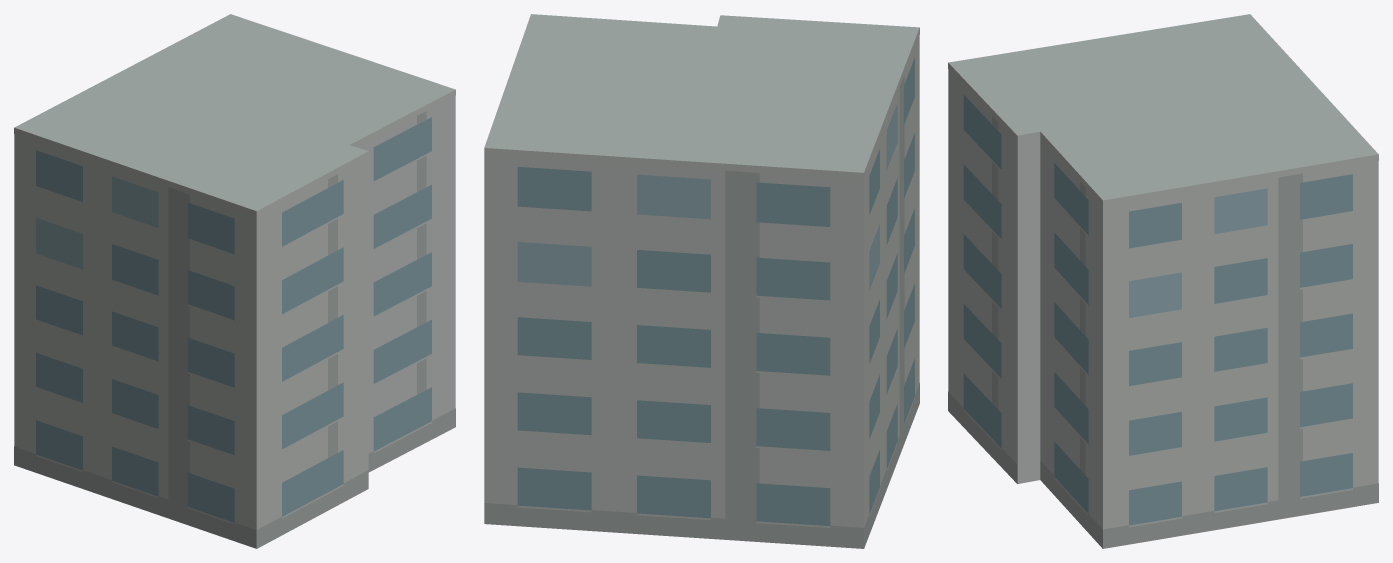
File: survey-upis-32858636.glb
3 views of the same model, side by side, from view 1: azimuth 30°, elevation 25°; view 2: azimuth 150°, elevation 25°; view 3: azimuth 270°, elevation 25° (orthographic). The views are drawn at different scales.
Visible parts, largest first — view 1: survey-upis-32858636.tmp; view 2: survey-upis-32858636.tmp; view 3: survey-upis-32858636.tmp.
Part boxes in pixels (x1,y1,x2,y2): survey-upis-32858636.tmp: (14,14,455,548); survey-upis-32858636.tmp: (484,14,919,548); survey-upis-32858636.tmp: (948,14,1378,548).
Size of the model in its own units: 15.1 by 13.15 by 14.74.
